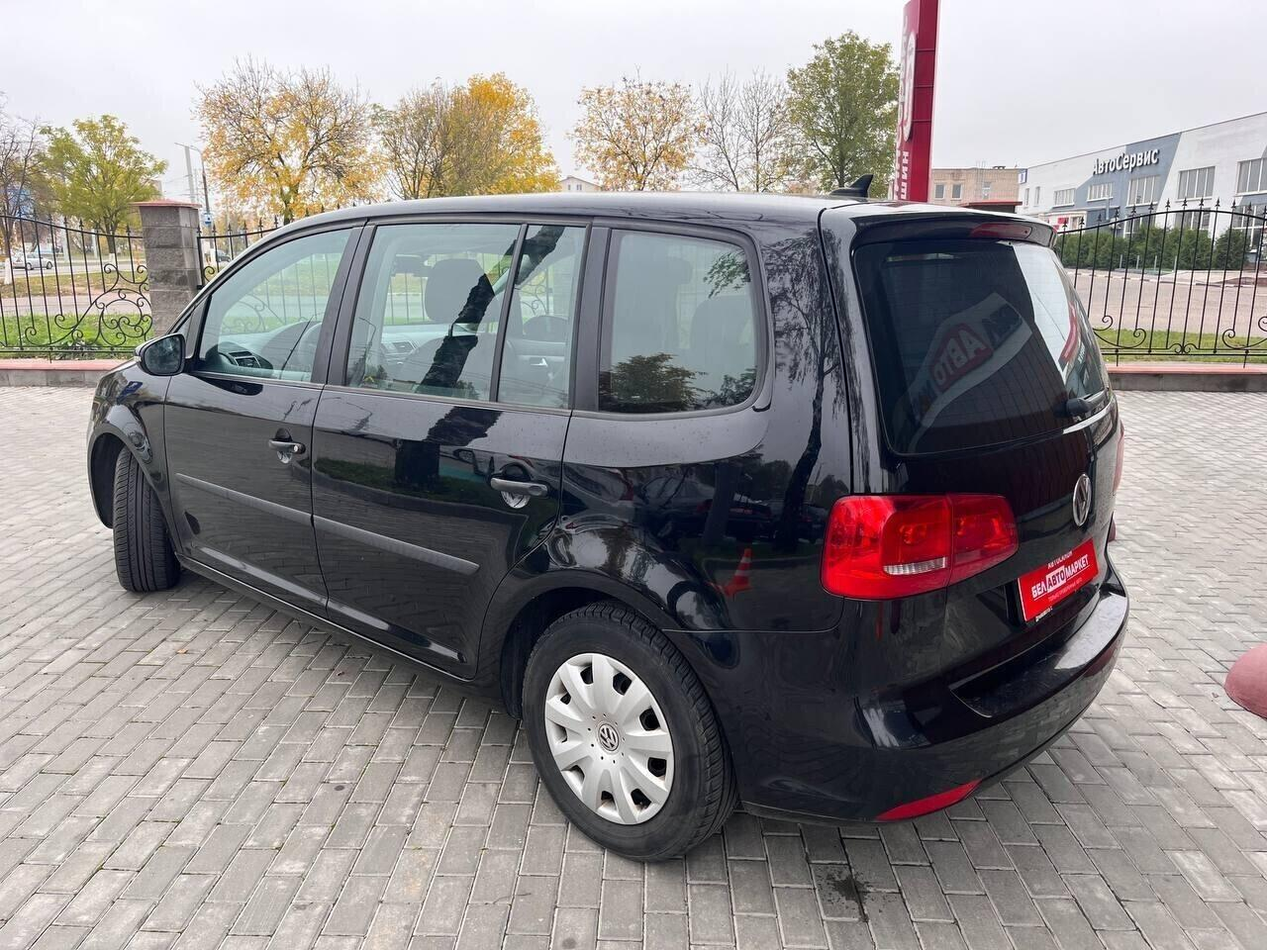Touran_2010-2015: (82, 189, 1131, 856)
